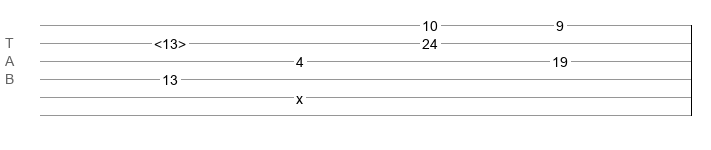10: (422, 18, 438, 28)
13: (162, 72, 178, 82)
19: (552, 54, 568, 64)
24: (422, 36, 438, 46)
4: (296, 54, 304, 64)
9: (556, 18, 564, 28)
harmonic: (154, 36, 186, 46)
x: (296, 91, 303, 99)
